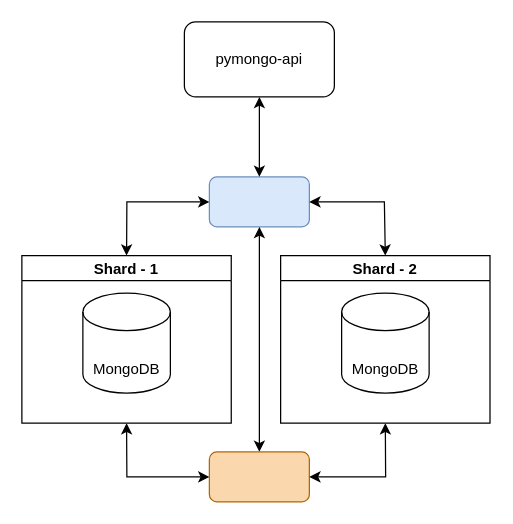
Some shapes in this 513 by 524 pixel diagram are drawn without their labels. Here are the shapes that lost their labels. From the top down, the centre of each, then its label:
point (258, 201): mongos-router
point (258, 476): config-server
